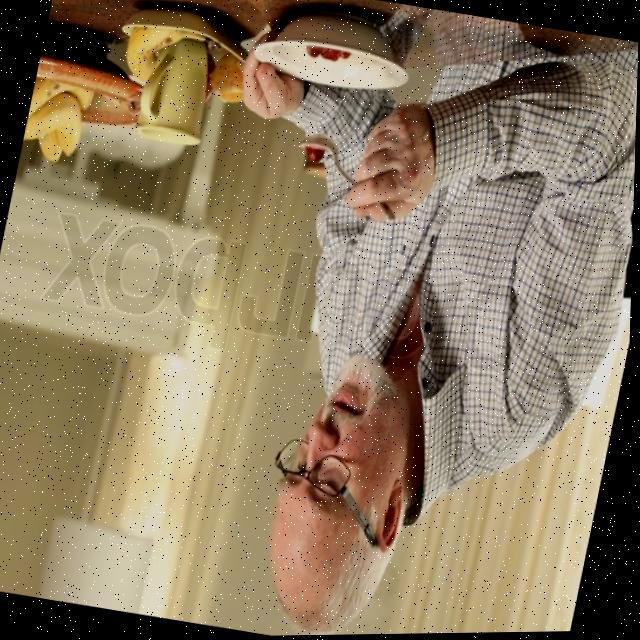eating-person: (19, 0, 640, 640)
